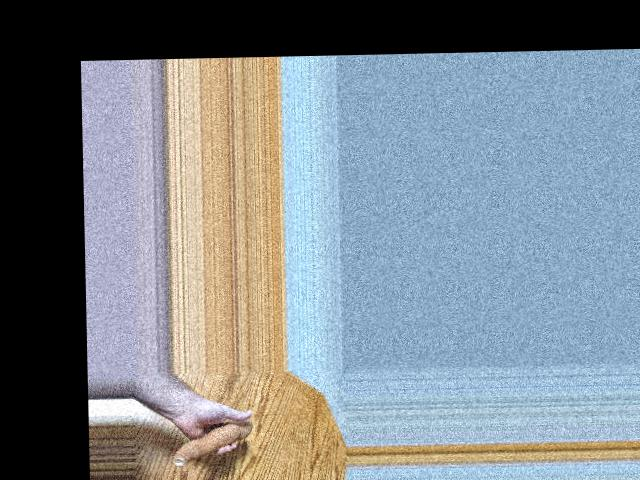sweet_potato: (171, 422, 256, 465)
